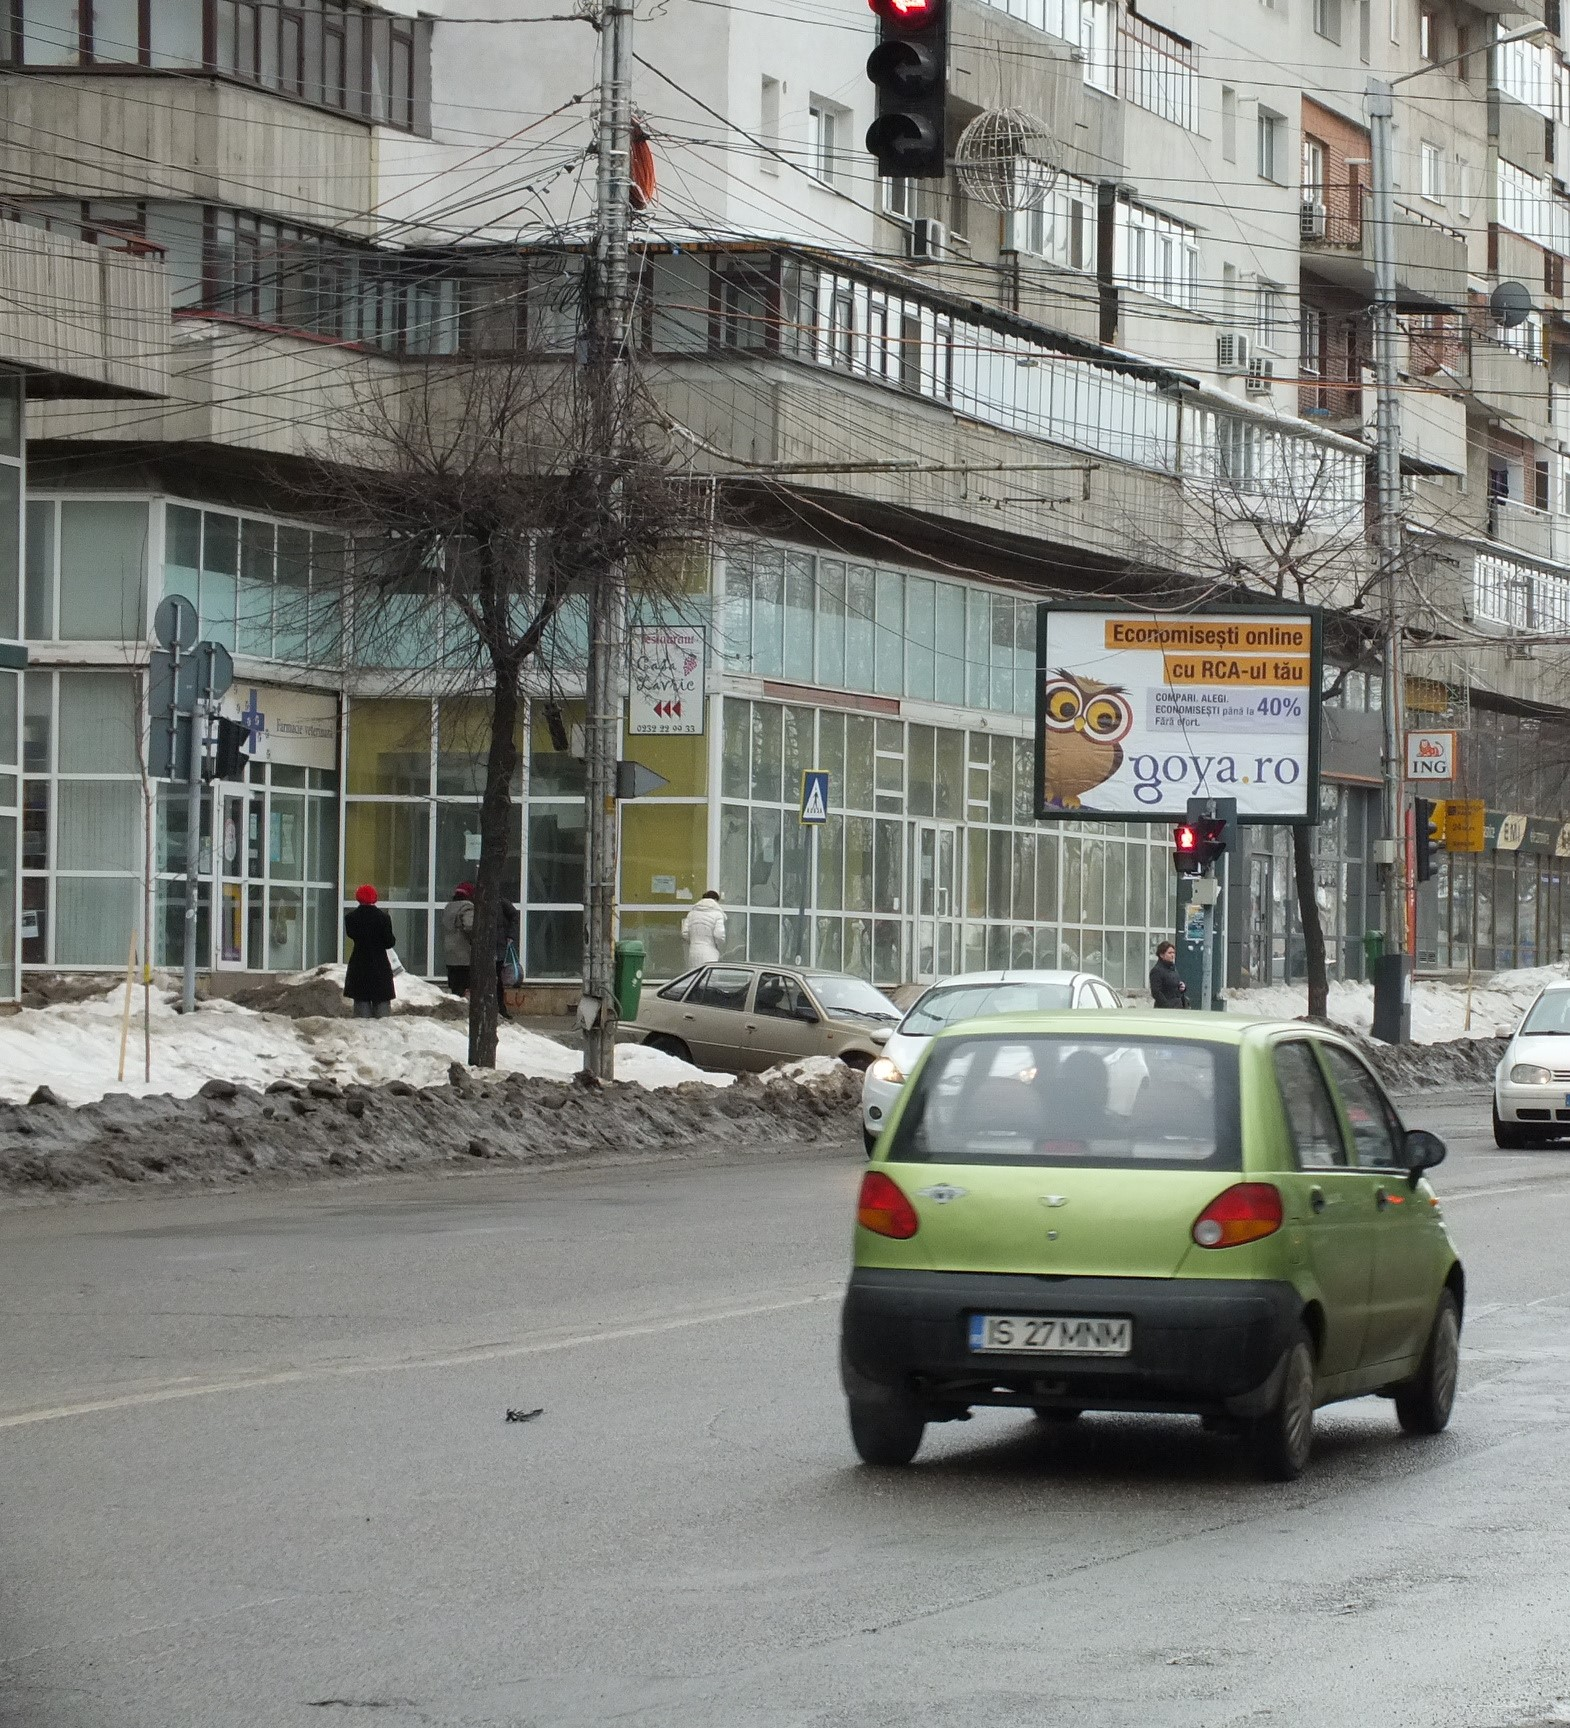IS27MNM: (967, 1318, 1127, 1355)
